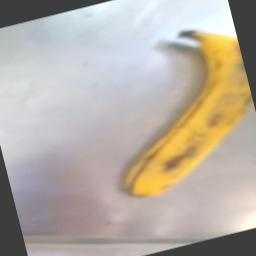Banana Overripe: (118, 32, 254, 200)
